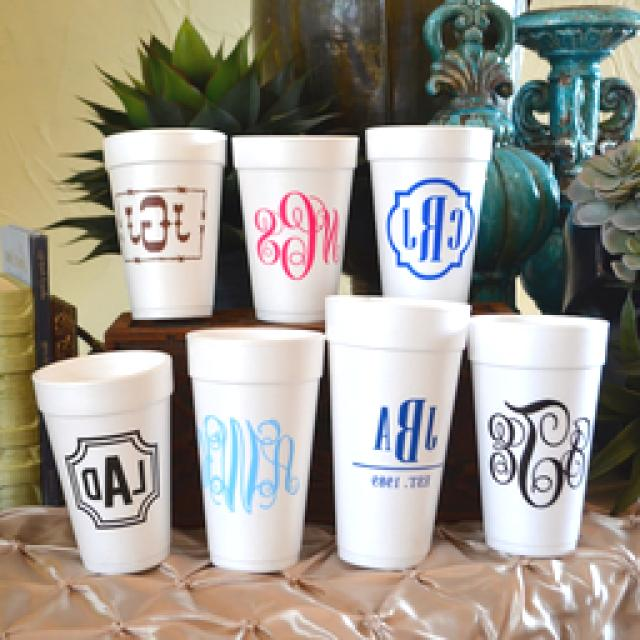styrofoam: (324, 296, 469, 564), (467, 312, 607, 558), (102, 129, 225, 322), (194, 379, 320, 566), (232, 138, 358, 324), (39, 399, 174, 572), (367, 126, 491, 301)
